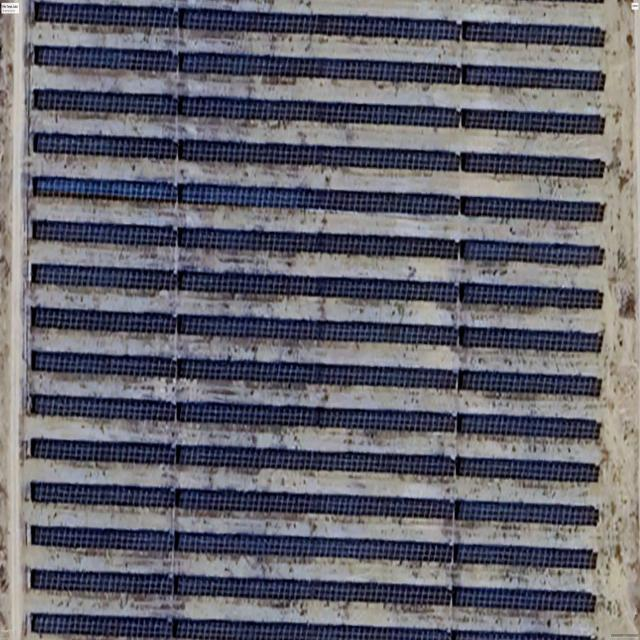Solar Panels: (32, 263, 458, 303), (31, 613, 592, 640), (177, 445, 455, 477), (178, 184, 459, 215), (181, 53, 460, 84), (180, 140, 459, 171), (178, 315, 457, 346), (182, 9, 459, 40), (179, 97, 460, 127), (178, 359, 457, 389), (178, 228, 457, 258), (176, 575, 450, 605), (177, 403, 455, 432), (178, 490, 454, 519), (178, 534, 451, 562), (460, 282, 603, 309), (453, 586, 596, 613), (35, 2, 178, 29), (33, 89, 178, 115), (31, 307, 176, 333), (30, 438, 175, 464), (462, 65, 606, 91), (460, 196, 604, 222), (460, 240, 604, 266), (34, 133, 178, 159), (33, 220, 177, 246), (32, 264, 176, 290), (32, 351, 176, 377), (31, 395, 175, 421), (461, 109, 604, 135), (454, 543, 597, 569), (458, 413, 601, 439), (459, 370, 602, 396), (35, 46, 178, 72), (31, 482, 174, 508), (456, 500, 598, 526), (460, 326, 602, 352), (31, 525, 173, 551), (31, 569, 173, 595), (461, 153, 605, 178), (33, 176, 177, 201), (462, 22, 605, 47), (456, 457, 599, 482)
